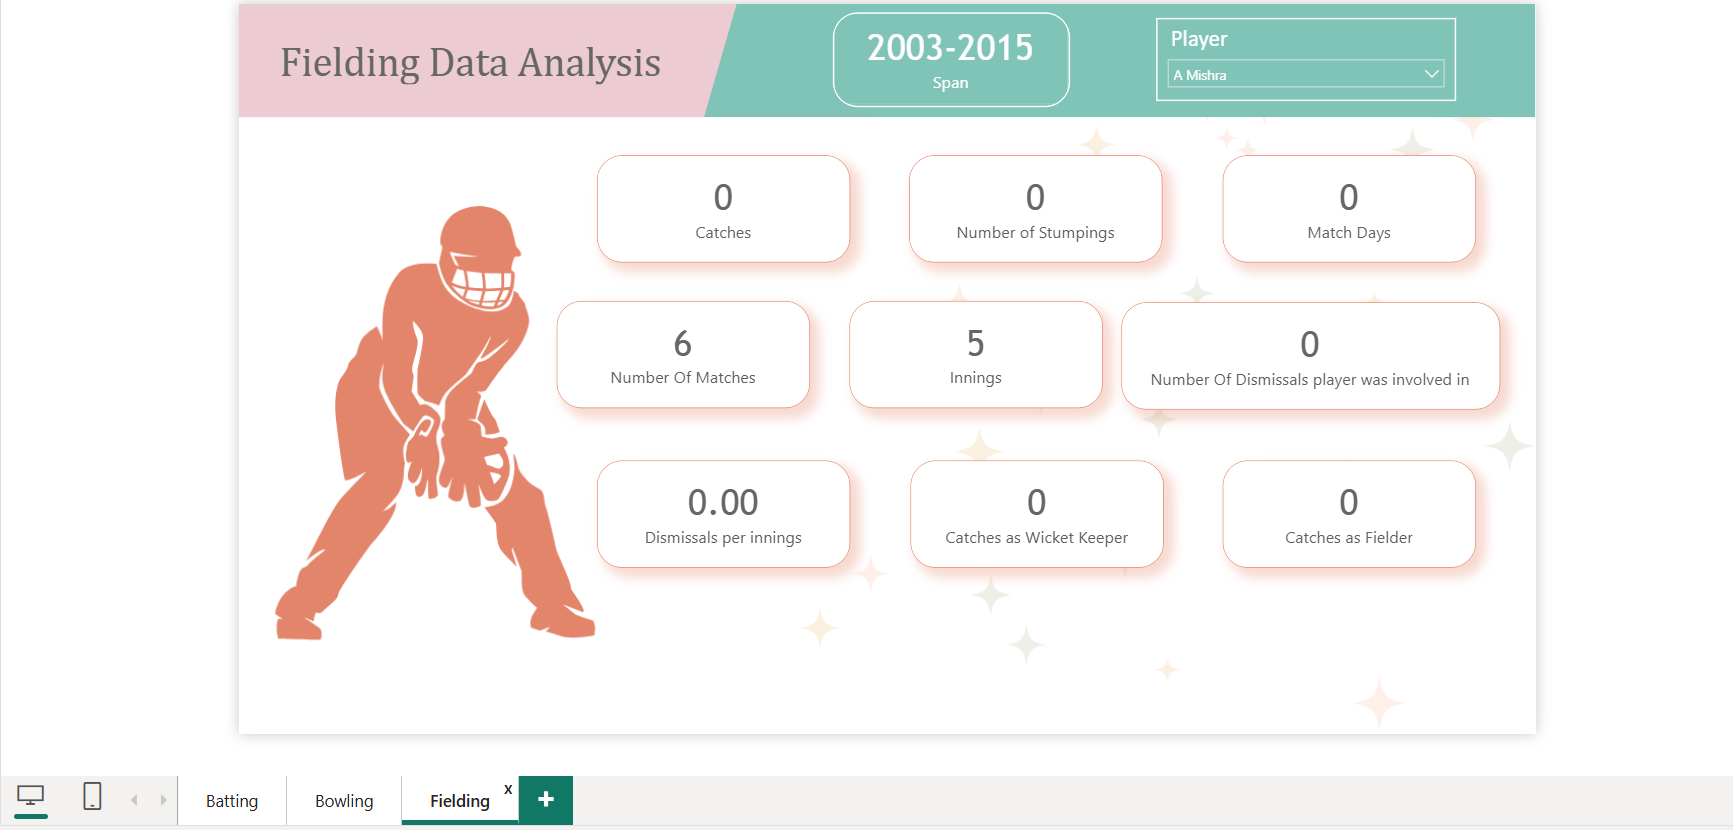

This screenshot's page, from the dashboard's own definition file:
{"tool":"powerbi","page":{"name":"Fielding","canvas":[1280,720],"ordinal":2},"visuals":[{"type":"shape","box":[0,0,626.8,111.7],"z":0},{"type":"shape","box":[459.3,0,820.8,111.7],"z":1000},{"type":"shape","box":[1179.5,0,100.5,111.7],"z":2000},{"type":"cardVisual","fields":{"Data":["Sum(Fielding.Ct)"]},"box":[352.9,149.3,250.4,106.1],"z":3000},{"type":"cardVisual","fields":{"Data":["Min(Fielding.MD)"]},"box":[970.9,149.3,250.4,106.1],"z":4000},{"type":"cardVisual","fields":{"Data":["Sum(Fielding.St)"]},"box":[661.9,149.3,250.4,106.1],"z":5000},{"type":"cardVisual","fields":{"Data":["Sum(Fielding.D/I)"]},"box":[352.9,450.6,250.4,106.1],"z":6000},{"type":"cardVisual","fields":{"Data":["Sum(Fielding.Ct Fi)"]},"box":[970.9,450.6,250.4,106.1],"z":7000},{"type":"cardVisual","fields":{"Data":["Sum(Fielding.Ct Wk)"]},"box":[662.6,450.6,250.4,106.1],"z":8000},{"type":"cardVisual","fields":{"Data":["Sum(Fielding.Mat)"]},"box":[313.9,292.9,250.4,106.1],"z":9000},{"type":"cardVisual","fields":{"Data":["Sum(Fielding.Dis)"]},"box":[870.9,293.9,373.8,106],"z":10000},{"type":"cardVisual","fields":{"Data":["Sum(Fielding.Inns)"]},"box":[602.6,292.9,250.4,106.1],"z":11000},{"type":"slicer","fields":{"Values":["Bowling.Player"]},"box":[906,14,296,82.4],"z":12000},{"type":"cardVisual","fields":{"Data":["Min(Fielding.Span)"]},"box":[585.9,8.4,234.3,93.5],"z":12001}]}

Visuals, with their boxes on the page's 1280x720 design canvas (x1, y1, x2, y2). These are canvas units, not pixel positions in the 1733x830 screenshot, which may show the page scaled, cropped or inside an application window:
shape: [x1=0, y1=0, x2=627, y2=112]
shape: [x1=459, y1=0, x2=1280, y2=112]
shape: [x1=1180, y1=0, x2=1280, y2=112]
cardVisual - Sum(Fielding.Ct): [x1=353, y1=149, x2=603, y2=255]
cardVisual - Min(Fielding.MD): [x1=971, y1=149, x2=1221, y2=255]
cardVisual - Sum(Fielding.St): [x1=662, y1=149, x2=912, y2=255]
cardVisual - Sum(Fielding.D/I): [x1=353, y1=451, x2=603, y2=557]
cardVisual - Sum(Fielding.Ct Fi): [x1=971, y1=451, x2=1221, y2=557]
cardVisual - Sum(Fielding.Ct Wk): [x1=663, y1=451, x2=913, y2=557]
cardVisual - Sum(Fielding.Mat): [x1=314, y1=293, x2=564, y2=399]
cardVisual - Sum(Fielding.Dis): [x1=871, y1=294, x2=1245, y2=400]
cardVisual - Sum(Fielding.Inns): [x1=603, y1=293, x2=853, y2=399]
slicer - Bowling.Player: [x1=906, y1=14, x2=1202, y2=96]
cardVisual - Min(Fielding.Span): [x1=586, y1=8, x2=820, y2=102]
